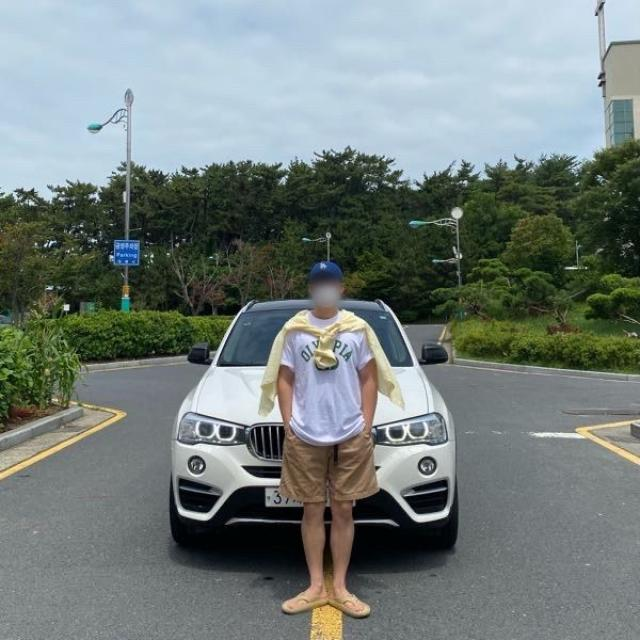shortpants: (281, 423, 381, 507)
shortsleeve: (277, 309, 373, 447)
